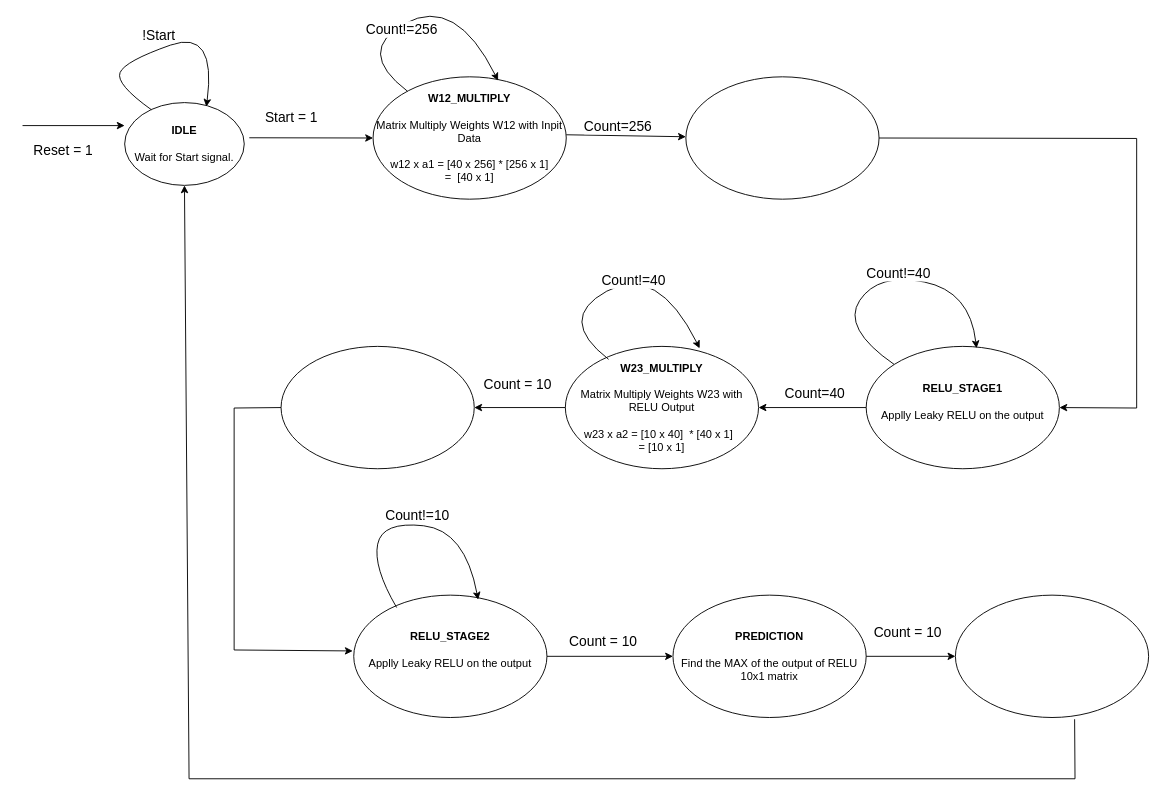
The diagram is 1165 pixels wide and 802 high, and some of its shapes have lost their labels. Here are the shapes that lost their labels. From the top down, the box of each, then its label:
(685, 76, 879, 199): B12_ADDITION Matrix Addition Biases B12 [40 x 1] + [40 x 1] = [40 x 1]
(280, 345, 474, 469): B23_ADDITION Matrix Addition Biases B23 [10 x 1] + [10 x 1] = [10 x 1]
(954, 594, 1149, 718): FINISHED Set the DONE Signal
